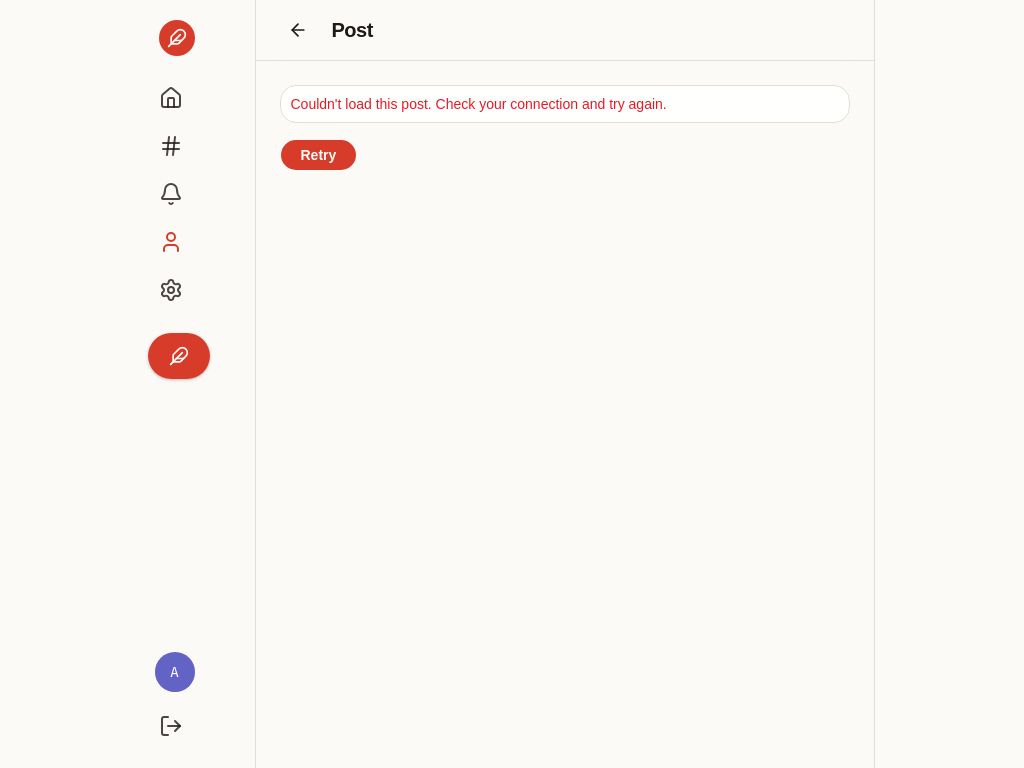
Test: PostDetail › shows a friendly error on a server failure and recovers on Retry
Check: the text "Couldn't load this post" is shown, box [290,96,667,112]
Click the button "Retry". click: (318, 155)
box: [280,139,357,171]
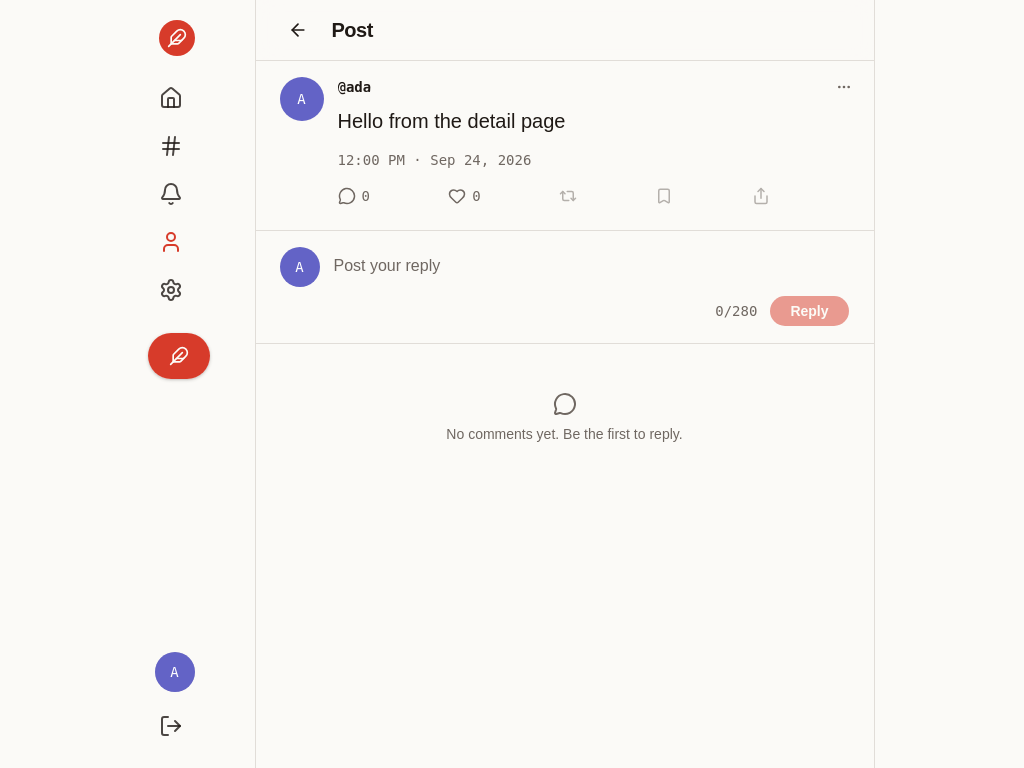
Check: the text "Hello from the detail page" is shown, box [338,110,565,132]
Check: the text "Couldn't load this post" is gone
